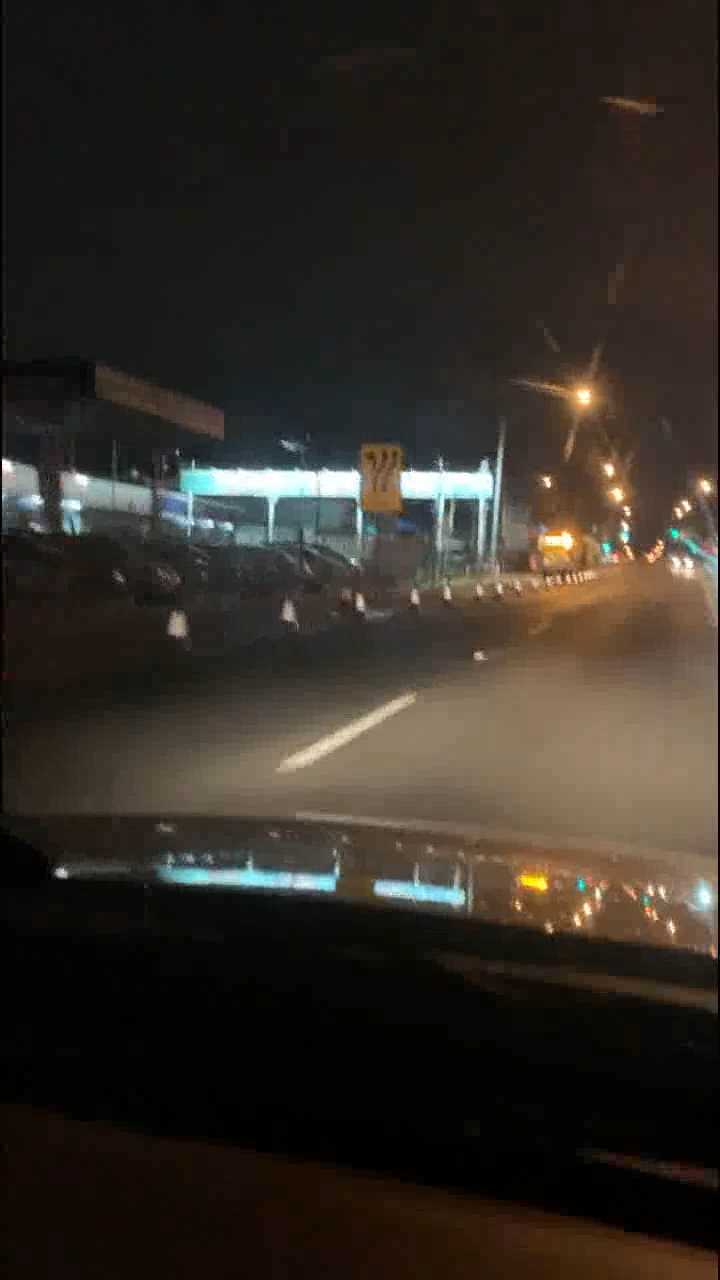road cone: (154, 599, 199, 666), (265, 584, 310, 651), (336, 573, 381, 640), (402, 573, 447, 640), (459, 566, 504, 633), (509, 560, 554, 627)
